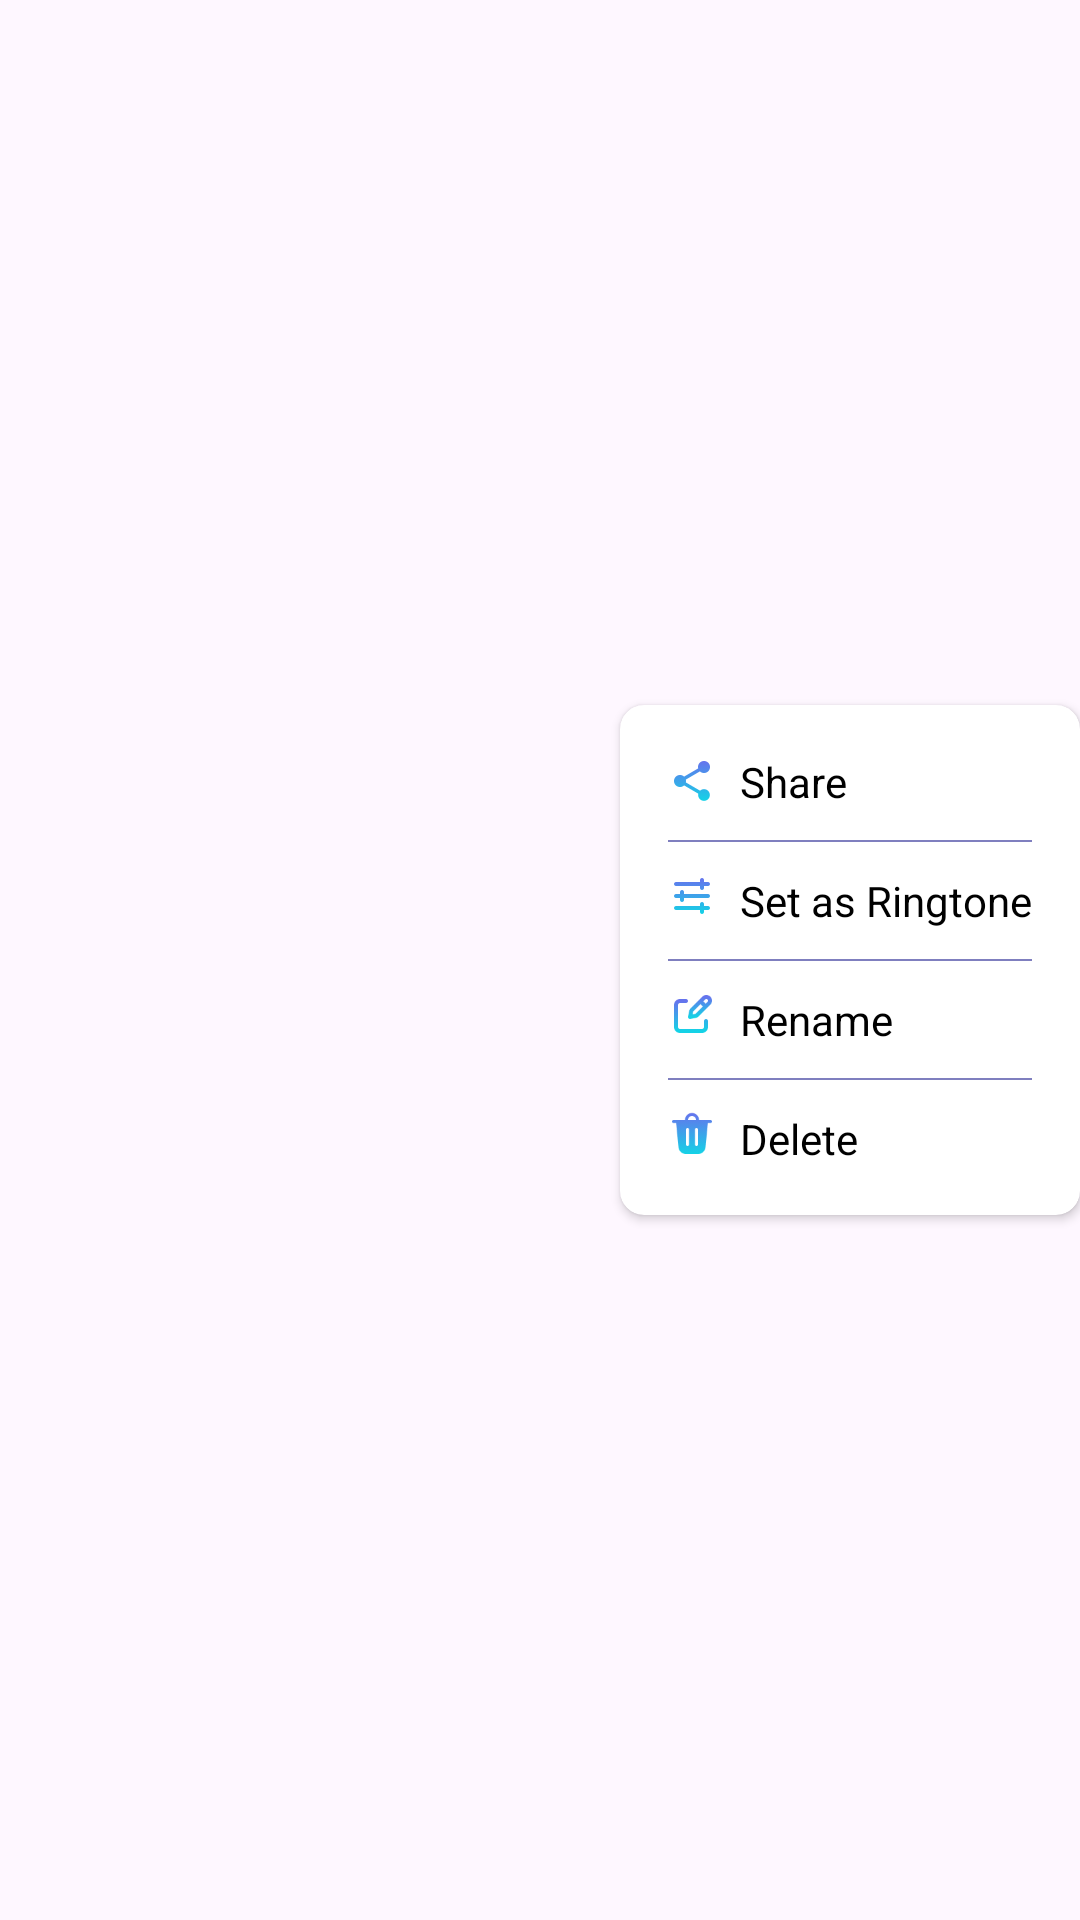

Screen size 1080 x 1920. Icon name, then its box in pixels as rect(x1, y1, x2, y2):
edit: rect(674, 995, 712, 1033)
